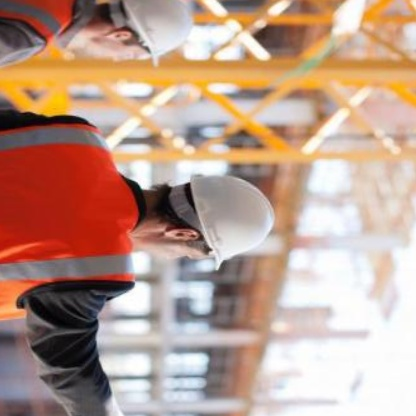vest: (0, 113, 142, 346), (0, 0, 90, 75)
white: (171, 164, 282, 278), (110, 0, 194, 72)
